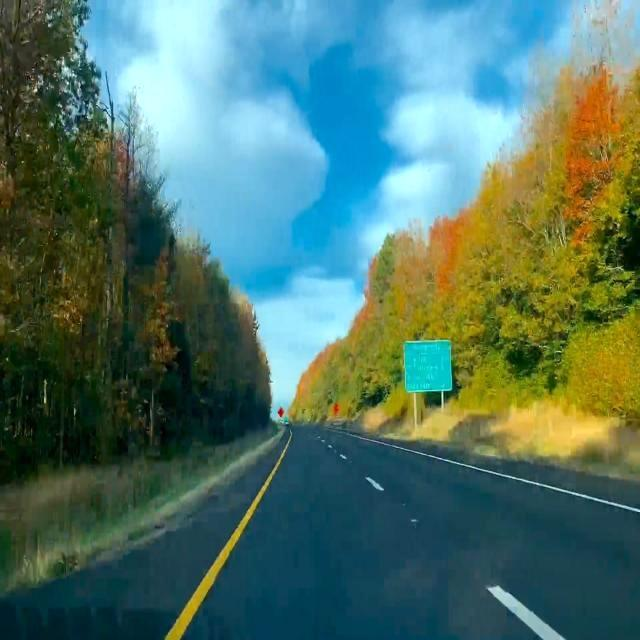lane: (165, 430, 292, 639), (339, 432, 640, 514), (486, 588, 565, 640), (488, 587, 564, 639), (366, 477, 383, 491)
road: (183, 427, 639, 639), (0, 449, 279, 639)
